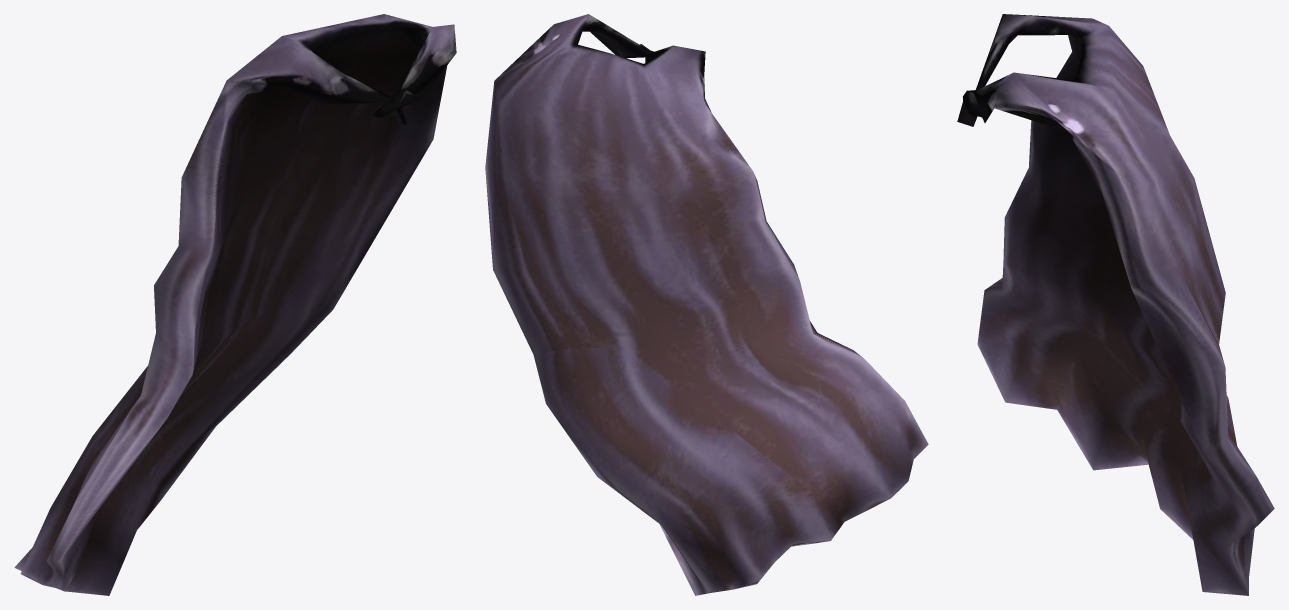
File: Cape_Purple.glb
3 views of the same model, side by side, from view 1: azimuth 30°, elevation 25°; view 2: azimuth 150°, elevation 25°; view 3: azimuth 270°, elevation 25° (orthographic). The views are drawn at different scales.
Visible parts, largest first — view 1: cape_low.001; view 2: cape_low.001; view 3: cape_low.001.
Boxes of the visible parts, x1,y1,x2,y2 form: cape_low.001: (14, 14, 456, 595); cape_low.001: (485, 14, 928, 595); cape_low.001: (957, 14, 1274, 595).
Bounding box in the file's own units: 1.47 × 1.74 × 0.763.
1 material, 1 textured.
